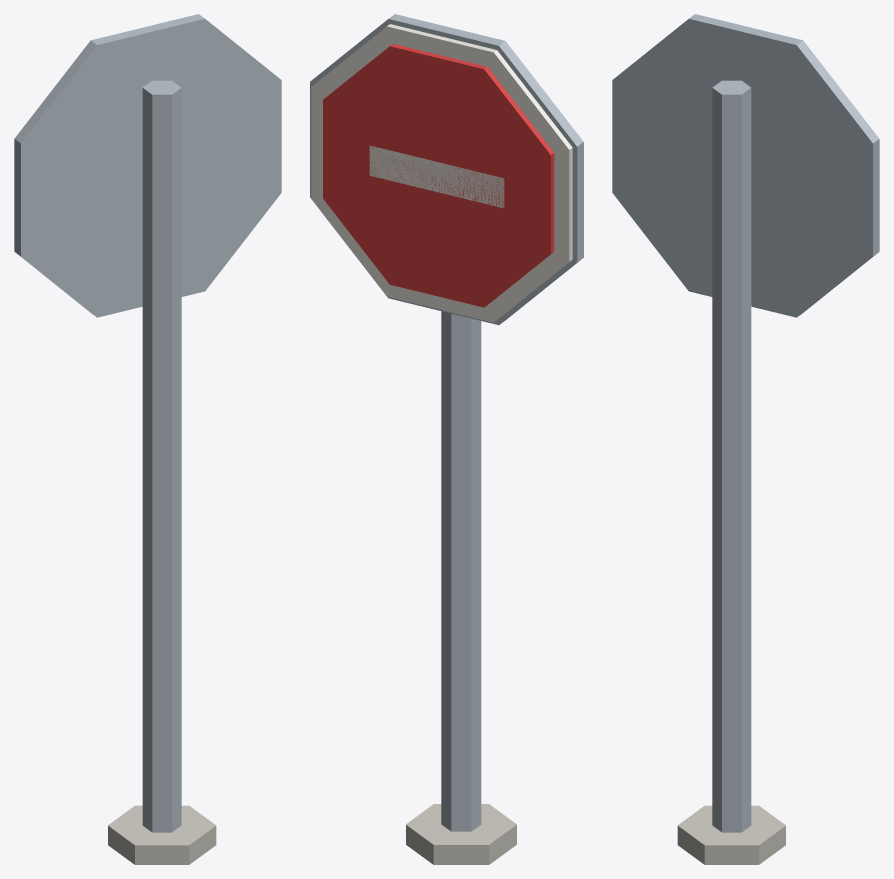
File: placa_pare.glb
3 renders of one model, left to right at view 1: azimuth 30°, elevation 25°; view 2: azimuth 150°, elevation 25°; view 3: azimuth 330°, elevation 25°, orthographic. The views are drawn at different scales.
Visible parts, largest first — view 1: corpo; view 2: corpo; view 3: corpo.
Boxes of the visible parts, <box> form: corpo: <box>14,14,281,864</box>; corpo: <box>310,14,583,864</box>; corpo: <box>612,14,879,864</box>.
Bounding box in the file's own units: 0.2772 × 0.8186 × 0.1.
